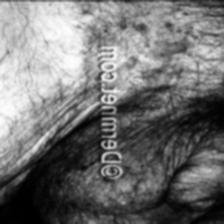Toxin: (118, 0, 190, 137), (47, 177, 188, 224), (66, 0, 99, 175)
